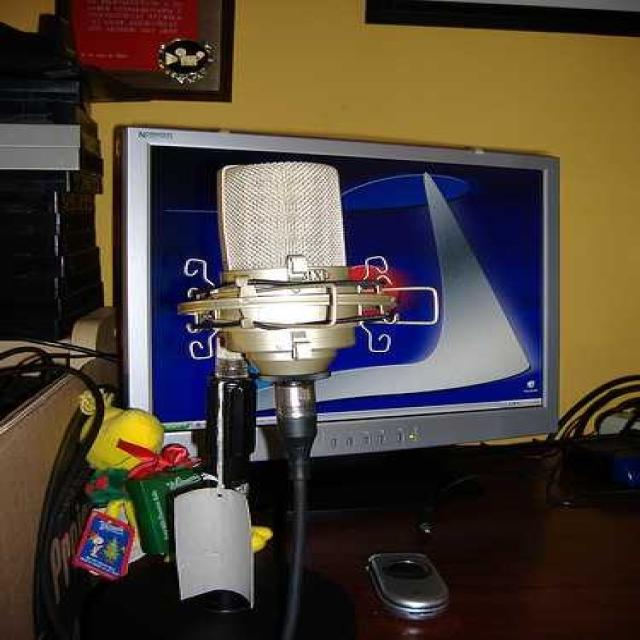microphone: (211, 164, 360, 391)
